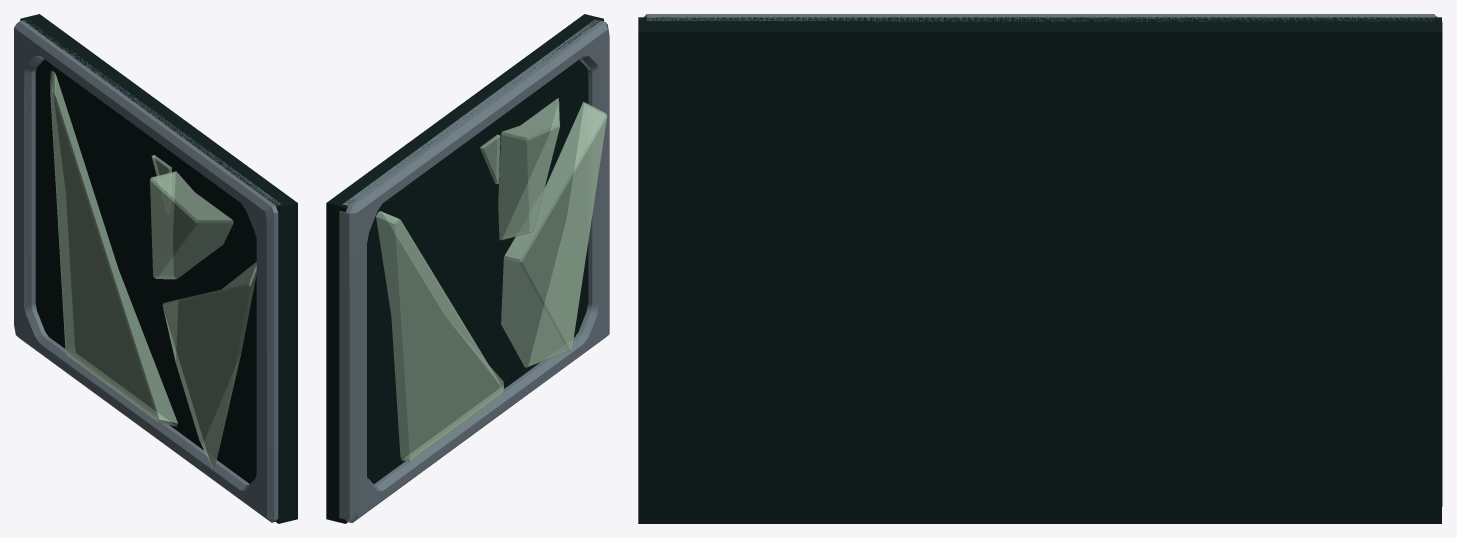
Rendered from plaka 8 emboss.fbx.
3 renders of one model, left to right at view 1: azimuth 30°, elevation 25°; view 2: azimuth 150°, elevation 25°; view 3: azimuth 270°, elevation 25°, orthographic. The views are drawn at different scales.
Visible parts, largest first — view 1: pCube449; view 2: pCube449; view 3: pCube449.
Boxes of the visible parts, x1,y1,x2,y2 form: pCube449: (14,14,297,523); pCube449: (326,14,609,523); pCube449: (638,14,1442,523).
Size of the model in its own units: 21.27 by 139 by 206.
